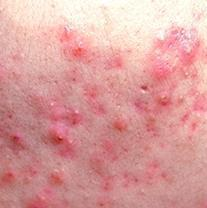papular: (49, 128, 73, 157), (68, 40, 88, 68), (4, 130, 29, 151), (112, 113, 137, 133), (179, 43, 199, 67), (151, 66, 167, 89)
purulent: (155, 92, 180, 114)
